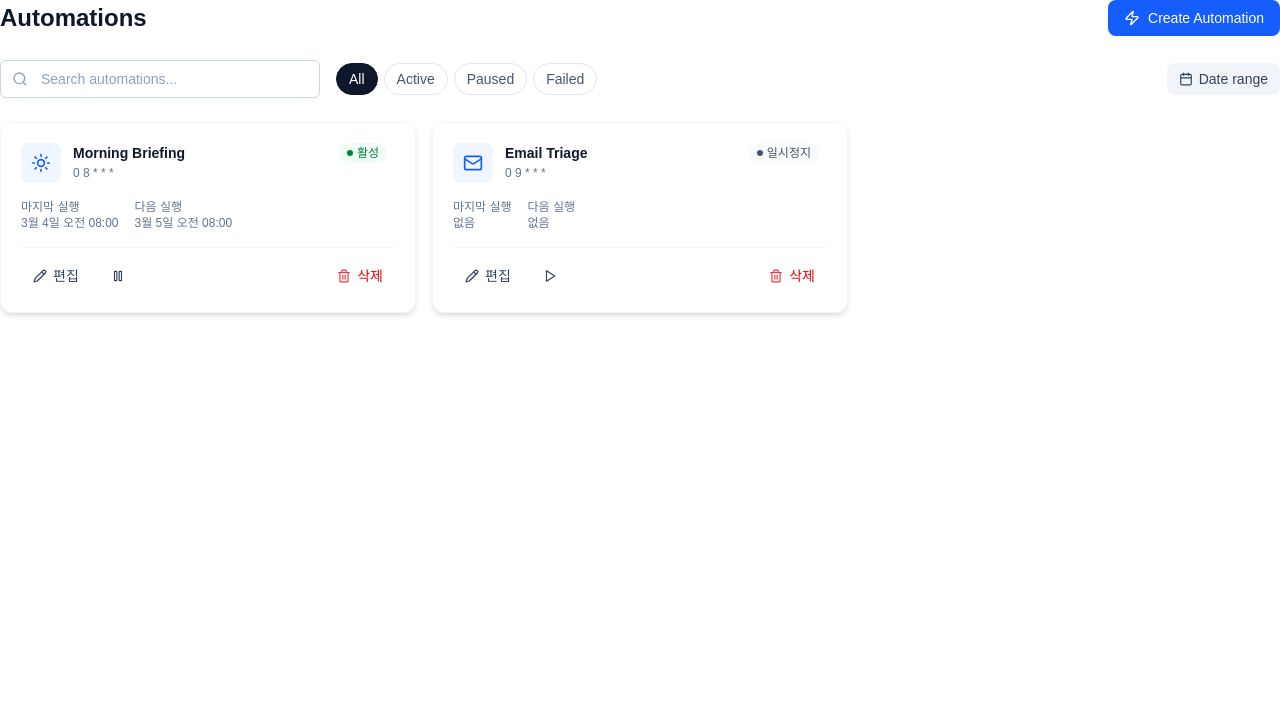
Test case: AutomationsPage — TC-3006, TC-3007 › FilterBar date range: applying a date filter updates the automation list (RED: not implemented)
expect the text "Morning Briefing" is shown: met, box [73, 145, 185, 161]
# Open date range picker
Click the button "Date range". click: [1223, 79]
box: [1167, 63, 1279, 95]
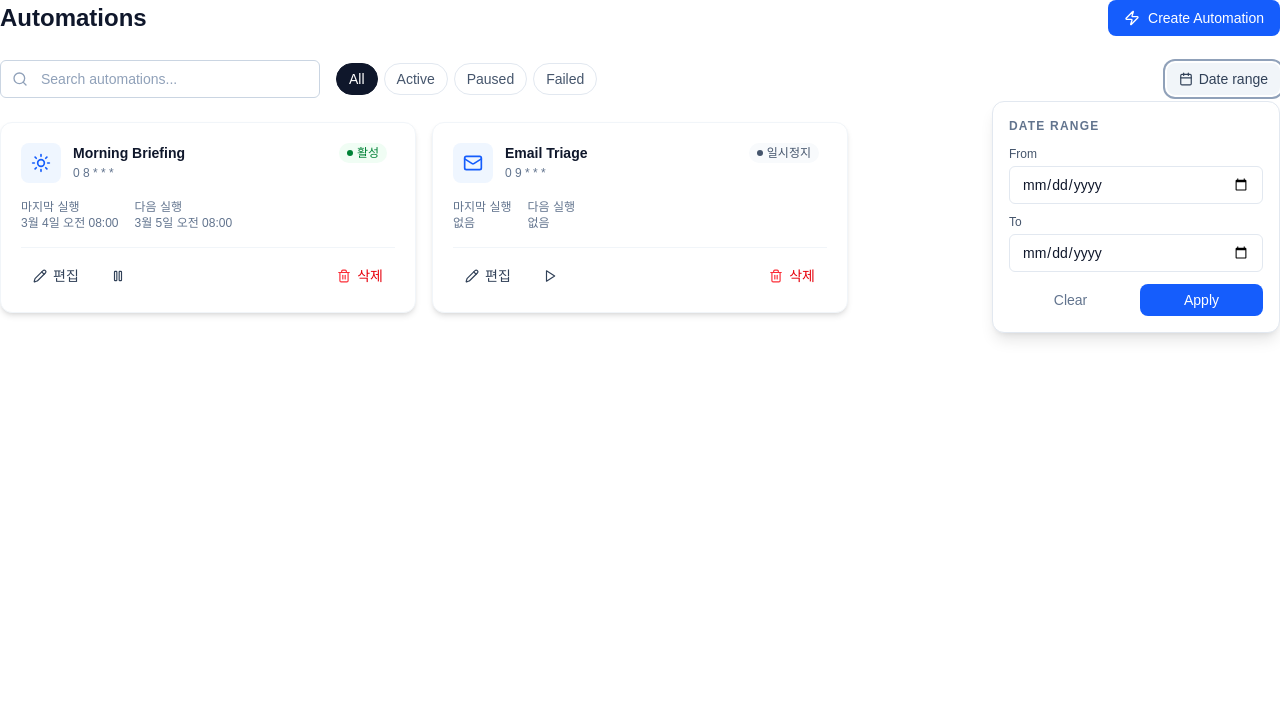
expect the dialog "Date range From To Clear Apply" is shown: met, box [992, 101, 1279, 333]
# Set date range: only Morning Briefing has next_run_at: 2026-03-05
Type "2026-03-05" into the date field labelled "From". click: [1136, 185]
box: [1009, 166, 1263, 204]
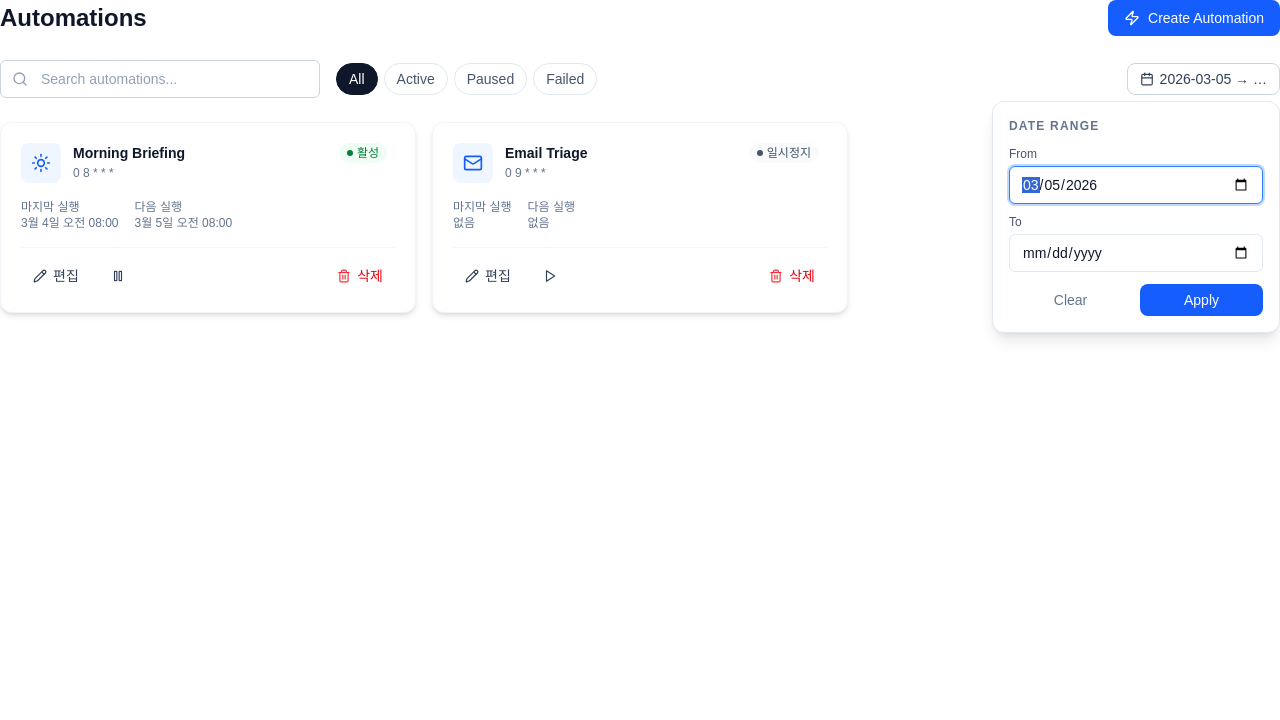
Type "2026-03-06" into the date field labelled "To". click: [1136, 253]
box: [1009, 234, 1263, 272]
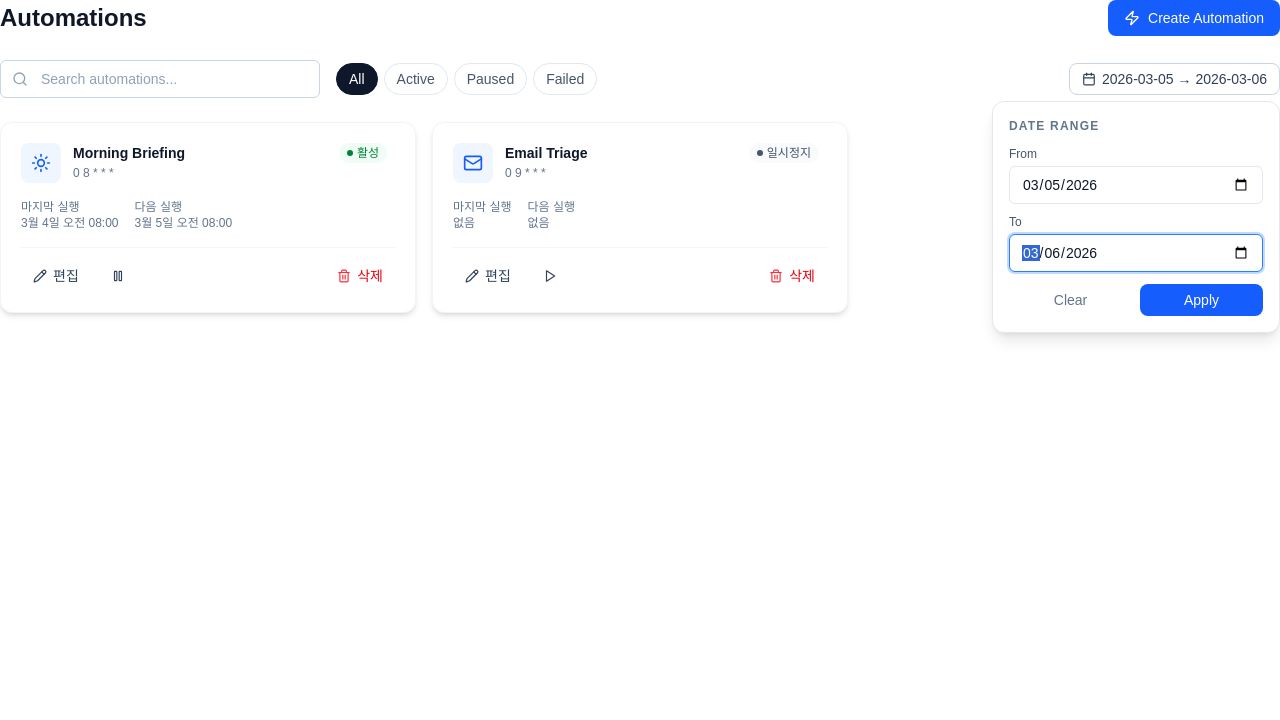
Click the button "Apply". click: [1202, 300]
box: [1140, 284, 1263, 316]
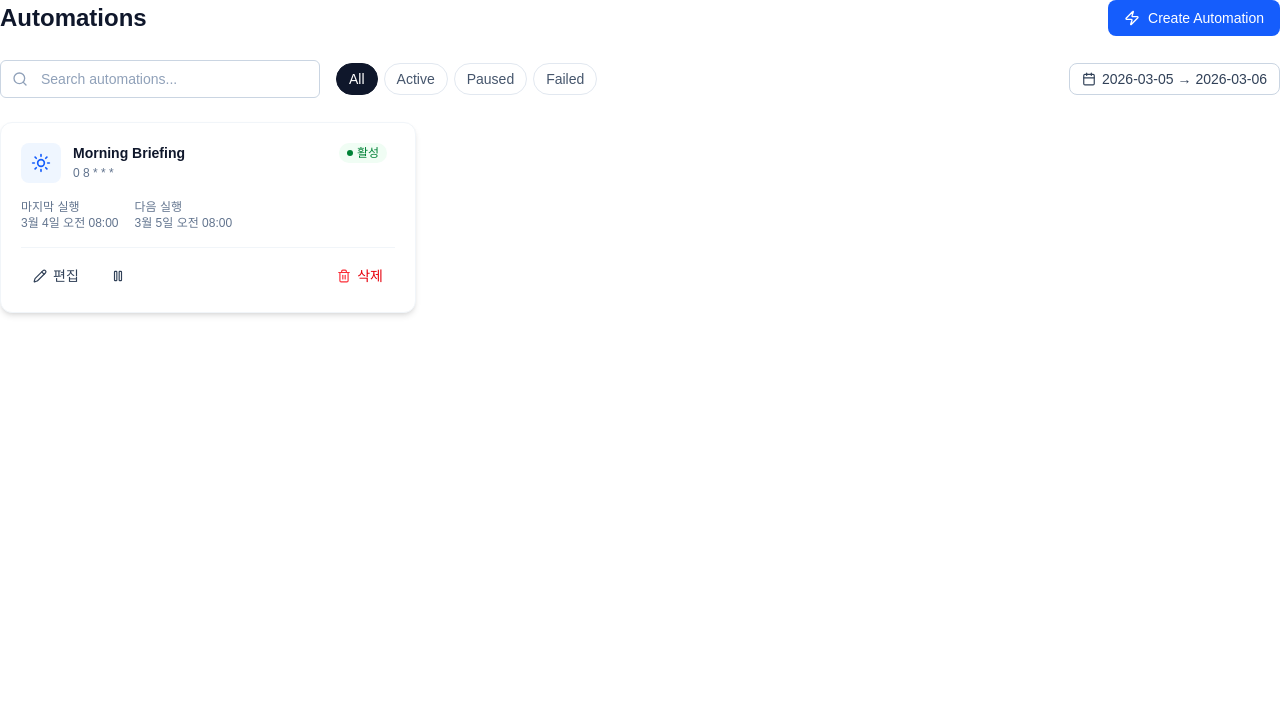
expect the button "Email Triage" is gone: met
